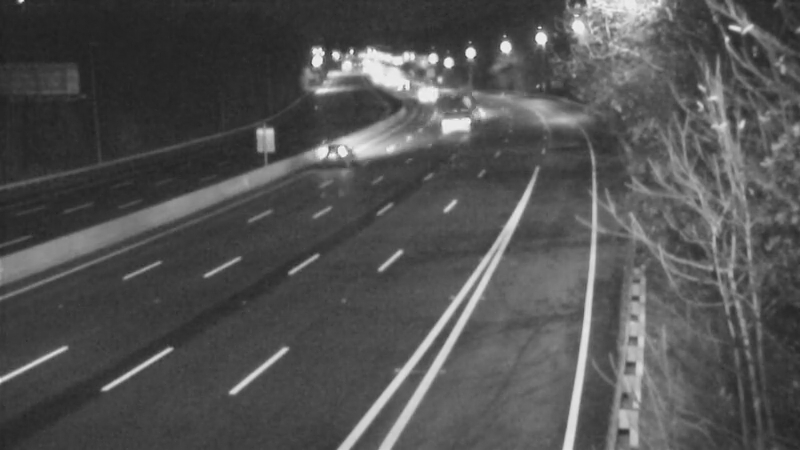vehicle: (304, 113, 384, 193), (379, 62, 429, 112), (403, 70, 453, 120), (436, 88, 486, 138)
